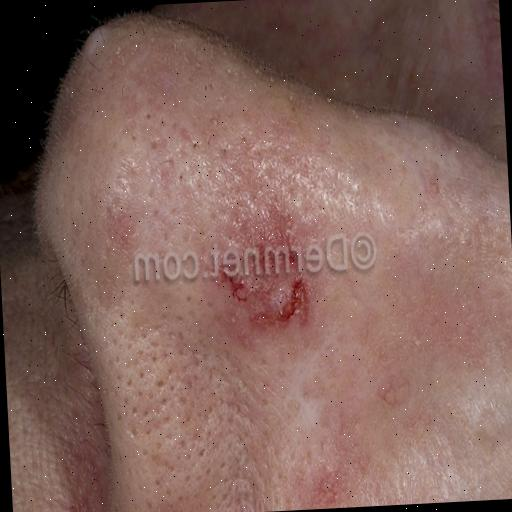Skin_Lesion: (137, 336, 201, 414), (159, 130, 229, 200), (212, 419, 262, 477), (272, 268, 310, 334), (223, 267, 248, 306)
